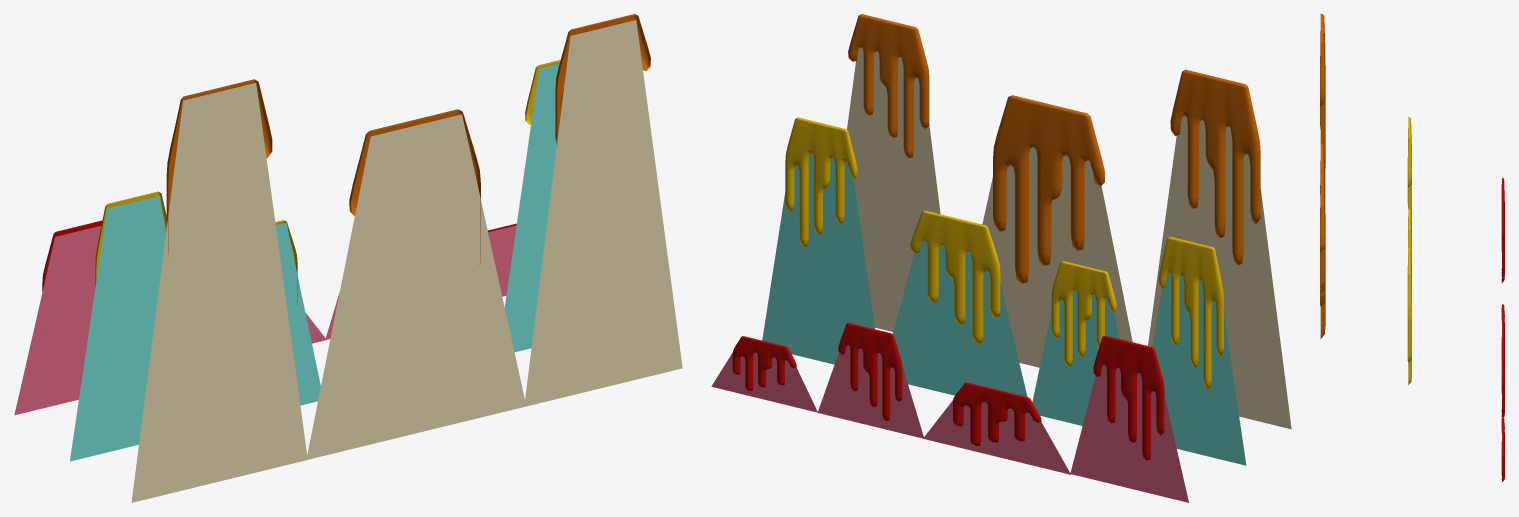
File: ParalaxObject_PuddingMountain_Mesh_v01 (test).fbx
3 renders of one model, left to right at view 1: azimuth 30°, elevation 25°; view 2: azimuth 150°, elevation 25°; view 3: azimuth 270°, elevation 25°, orthographic. The views are drawn at different scales.
Visible parts, largest first — view 1: PuddingCake_Cake_01 (×8), PuddingCake_Icing_Drip_01 (×3); view 2: PuddingCake_Cake_01 (×11), PuddingCake_Icing_Drip_01 (×11); view 3: PuddingCake_Icing_Drip_01 (×8).
Boxes of the visible parts, x1,y1,x2,y2 form: PuddingCake_Cake_01 (×8): (14,20,682,502); PuddingCake_Icing_Drip_01 (×3): (166,14,650,266); PuddingCake_Cake_01 (×11): (711,47,1291,502); PuddingCake_Icing_Drip_01 (×11): (732,14,1260,460); PuddingCake_Icing_Drip_01 (×8): (1320,14,1504,481).
Size of the model in its own units: 86366 by 56957 by 31801.
